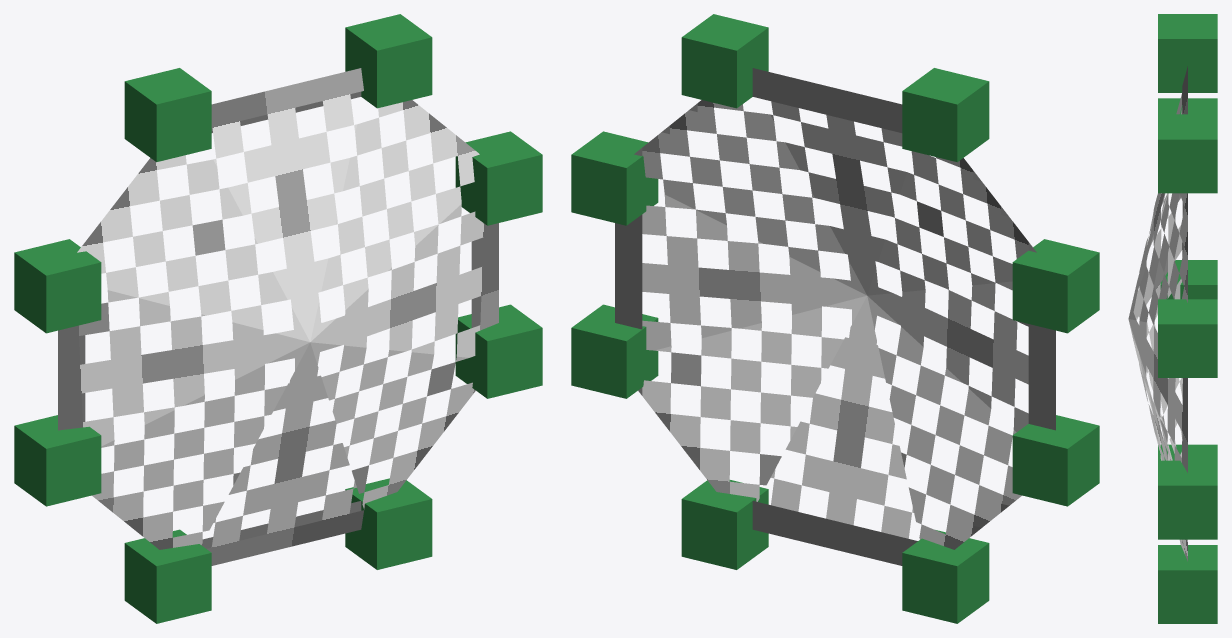
Rendered from Net.fbx.
The picture shows the model from 3 angles, left to right: view 1: azimuth 30°, elevation 25°; view 2: azimuth 150°, elevation 25°; view 3: azimuth 270°, elevation 25°; orthographic projection. The views are drawn at different scales.
Parts seen in each view (by area): view 1: cone, cube_7, cube_6, cube_5, cube, cube_4, cube_1, cube_2, cube_3; view 2: cone, cube_7, cube_6, cube_5, cube, cube_4, cube_1, cube_2, cube_3; view 3: cone, cube, cube_2, cube_1, cube_3, cube_7, cube_5, cube_6, cube_4.
Part boxes in pixels (box(x1,y1,x2,y2)): cone: box(58, 68, 498, 565); cube_7: box(124, 68, 211, 162); cube_6: box(14, 239, 101, 333); cube_5: box(14, 415, 101, 506); cube: box(345, 14, 432, 108); cube_4: box(124, 529, 211, 623); cube_1: box(455, 131, 542, 225); cube_2: box(455, 304, 542, 398); cube_3: box(345, 478, 432, 569); cone: box(615, 68, 1055, 565); cube_7: box(902, 68, 989, 162); cube_6: box(1012, 239, 1099, 333); cube_5: box(1012, 415, 1099, 506); cube: box(681, 14, 768, 108); cube_4: box(902, 530, 989, 623); cube_1: box(571, 131, 658, 225); cube_2: box(571, 304, 658, 398); cube_3: box(681, 480, 768, 569); cone: box(1128, 66, 1187, 561); cube: box(1158, 114, 1217, 193); cube_2: box(1158, 460, 1217, 539); cube_1: box(1158, 299, 1217, 377); cube_3: box(1158, 545, 1217, 623); cube_7: box(1158, 14, 1217, 92); cube_5: box(1160, 260, 1217, 299); cube_6: box(1158, 98, 1217, 114); cube_4: box(1158, 444, 1217, 460).
Bounding box in the file's own units: 112 × 112 × 18.75.
1 material, 1 textured.
